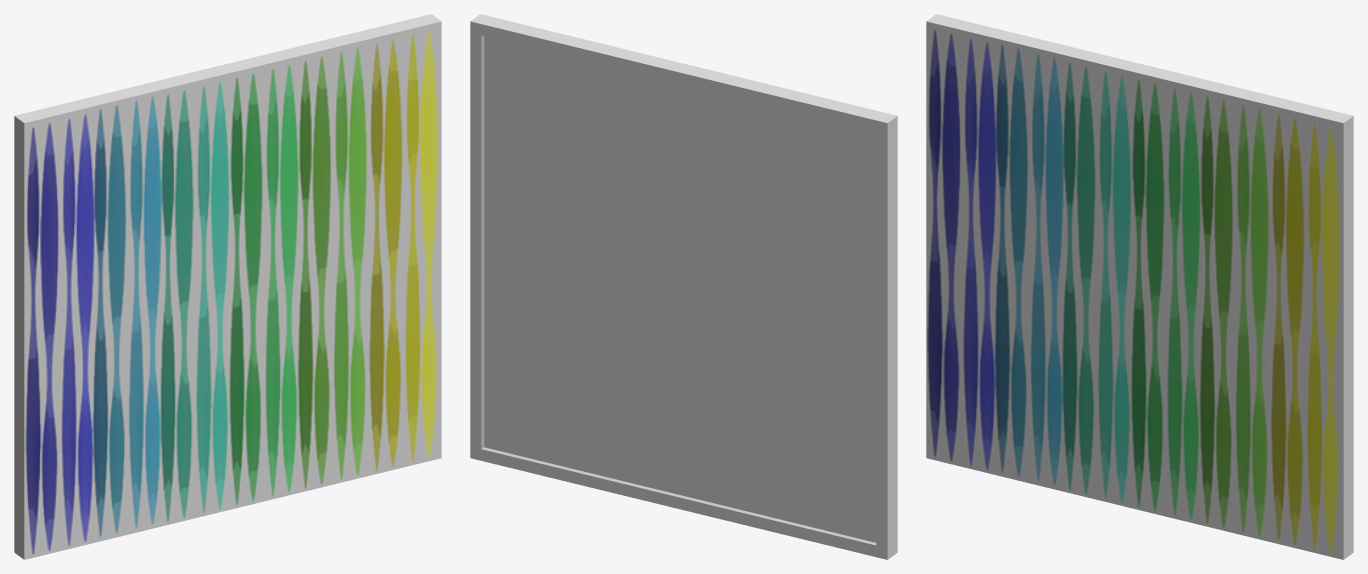
Rendered from Wall_Art_C.FBX.
3 renders of one model, left to right at view 1: azimuth 30°, elevation 25°; view 2: azimuth 150°, elevation 25°; view 3: azimuth 330°, elevation 25°, orthographic.
Visible parts, largest first — view 1: Wall_Art_A; view 2: Wall_Art_A; view 3: Wall_Art_A.
Boxes of the visible parts, x1=… form: Wall_Art_A: x1=14, y1=14, x2=441, y2=559; Wall_Art_A: x1=470, y1=14, x2=897, y2=559; Wall_Art_A: x1=926, y1=14, x2=1353, y2=559.
Bounding box in the file's own units: 190 × 190 × 8.
